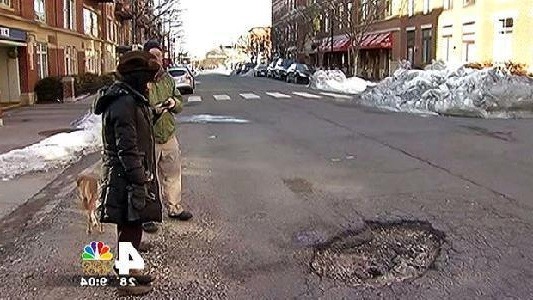pothole: (307, 215, 449, 287)
